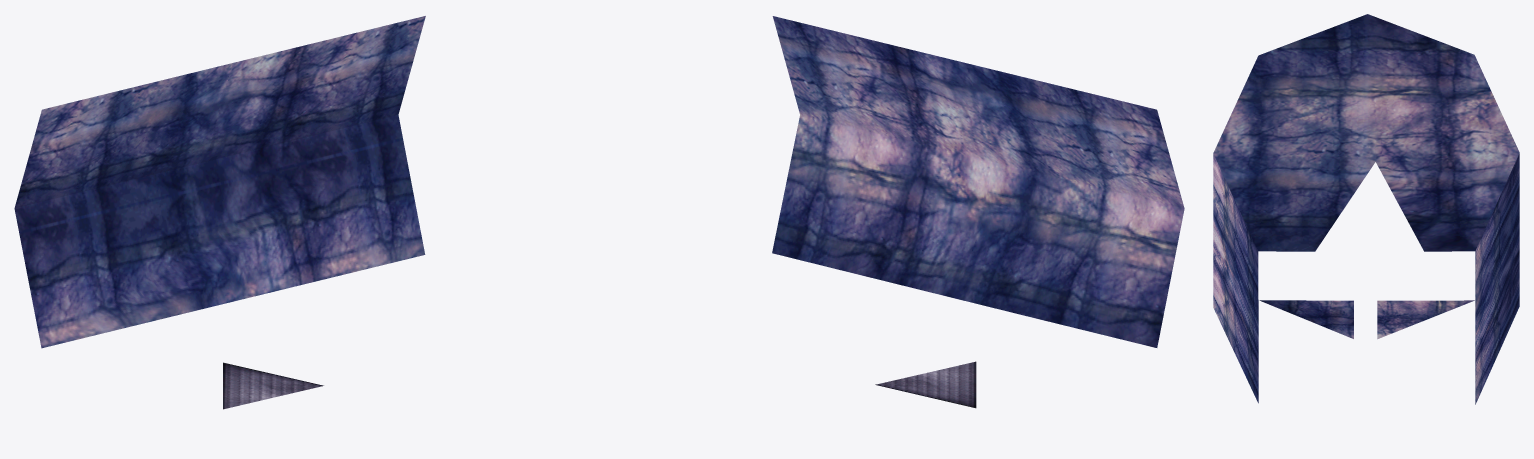
The model's file is chickenchamer.glb.
The picture shows the model from 3 angles, left to right: view 1: azimuth 30°, elevation 25°; view 2: azimuth 150°, elevation 25°; view 3: azimuth 270°, elevation 25°; orthographic projection. The views are drawn at different scales.
Parts seen in each view (by area): view 1: chickenchamer; view 2: chickenchamer; view 3: chickenchamer.
Part boxes in pixels (x1,y1,x2,y2): chickenchamer: [14, 16, 425, 409]; chickenchamer: [772, 16, 1184, 408]; chickenchamer: [1213, 14, 1519, 404].
Bounding box in the file's own units: 4373 × 3667 × 3674.
2 materials, 2 textured.
